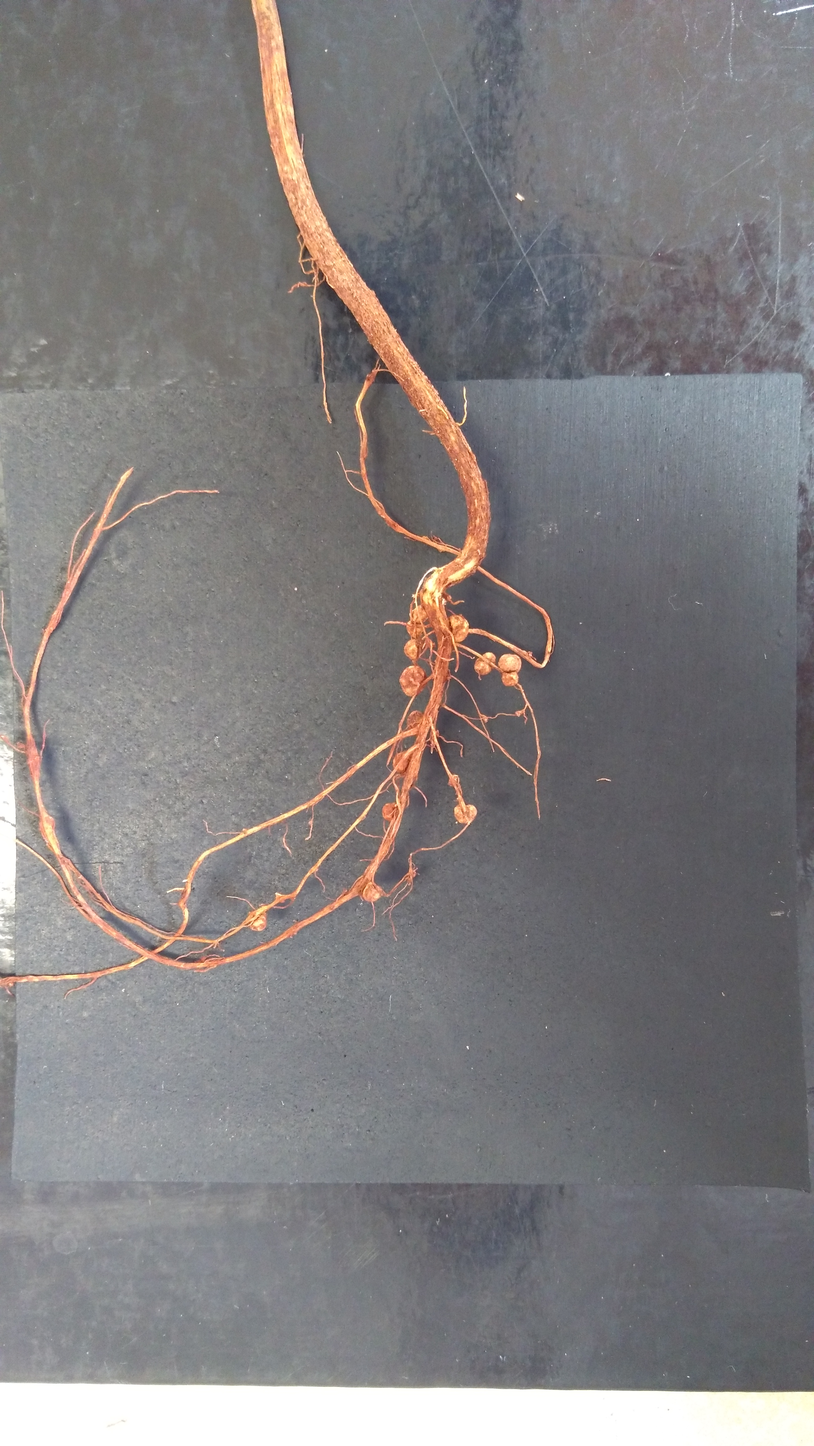nodule: (399, 666, 427, 697), (449, 614, 469, 642), (474, 652, 496, 676), (454, 804, 477, 824), (393, 750, 412, 774), (404, 639, 424, 660), (498, 654, 521, 672), (362, 882, 381, 902), (409, 605, 428, 624), (406, 621, 426, 639), (382, 802, 399, 822), (406, 711, 424, 729), (250, 912, 267, 931), (501, 672, 519, 686), (448, 775, 458, 787), (427, 640, 436, 648), (527, 651, 532, 657), (483, 718, 488, 723)
